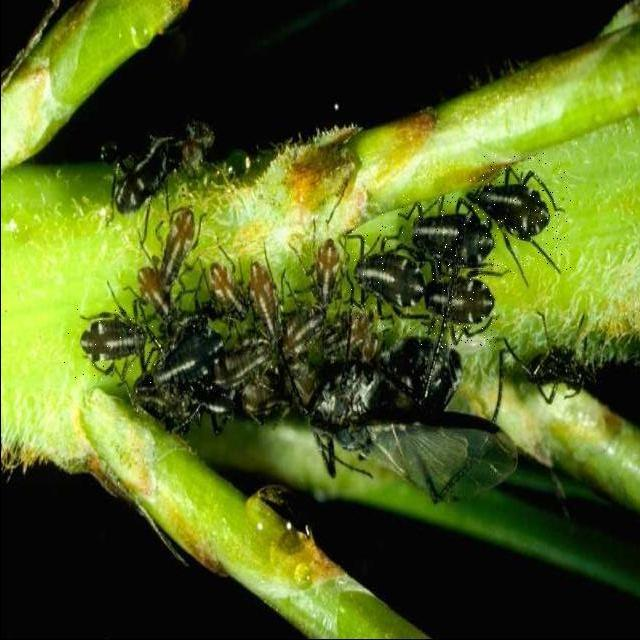aphid: (467, 154, 570, 274), (348, 211, 423, 334), (502, 312, 598, 408), (397, 194, 504, 268), (306, 352, 396, 437), (379, 333, 466, 418), (62, 308, 154, 384), (150, 318, 230, 404), (108, 134, 183, 217), (209, 335, 277, 426), (418, 270, 497, 348)
